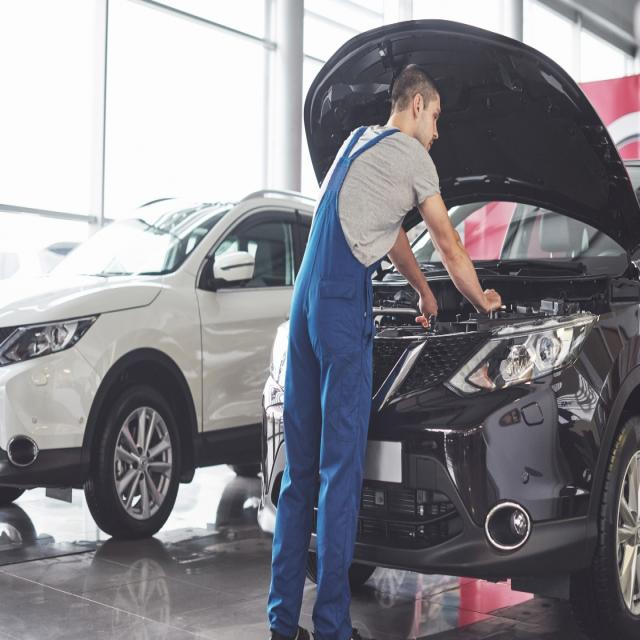SUV: (0, 198, 309, 542)
